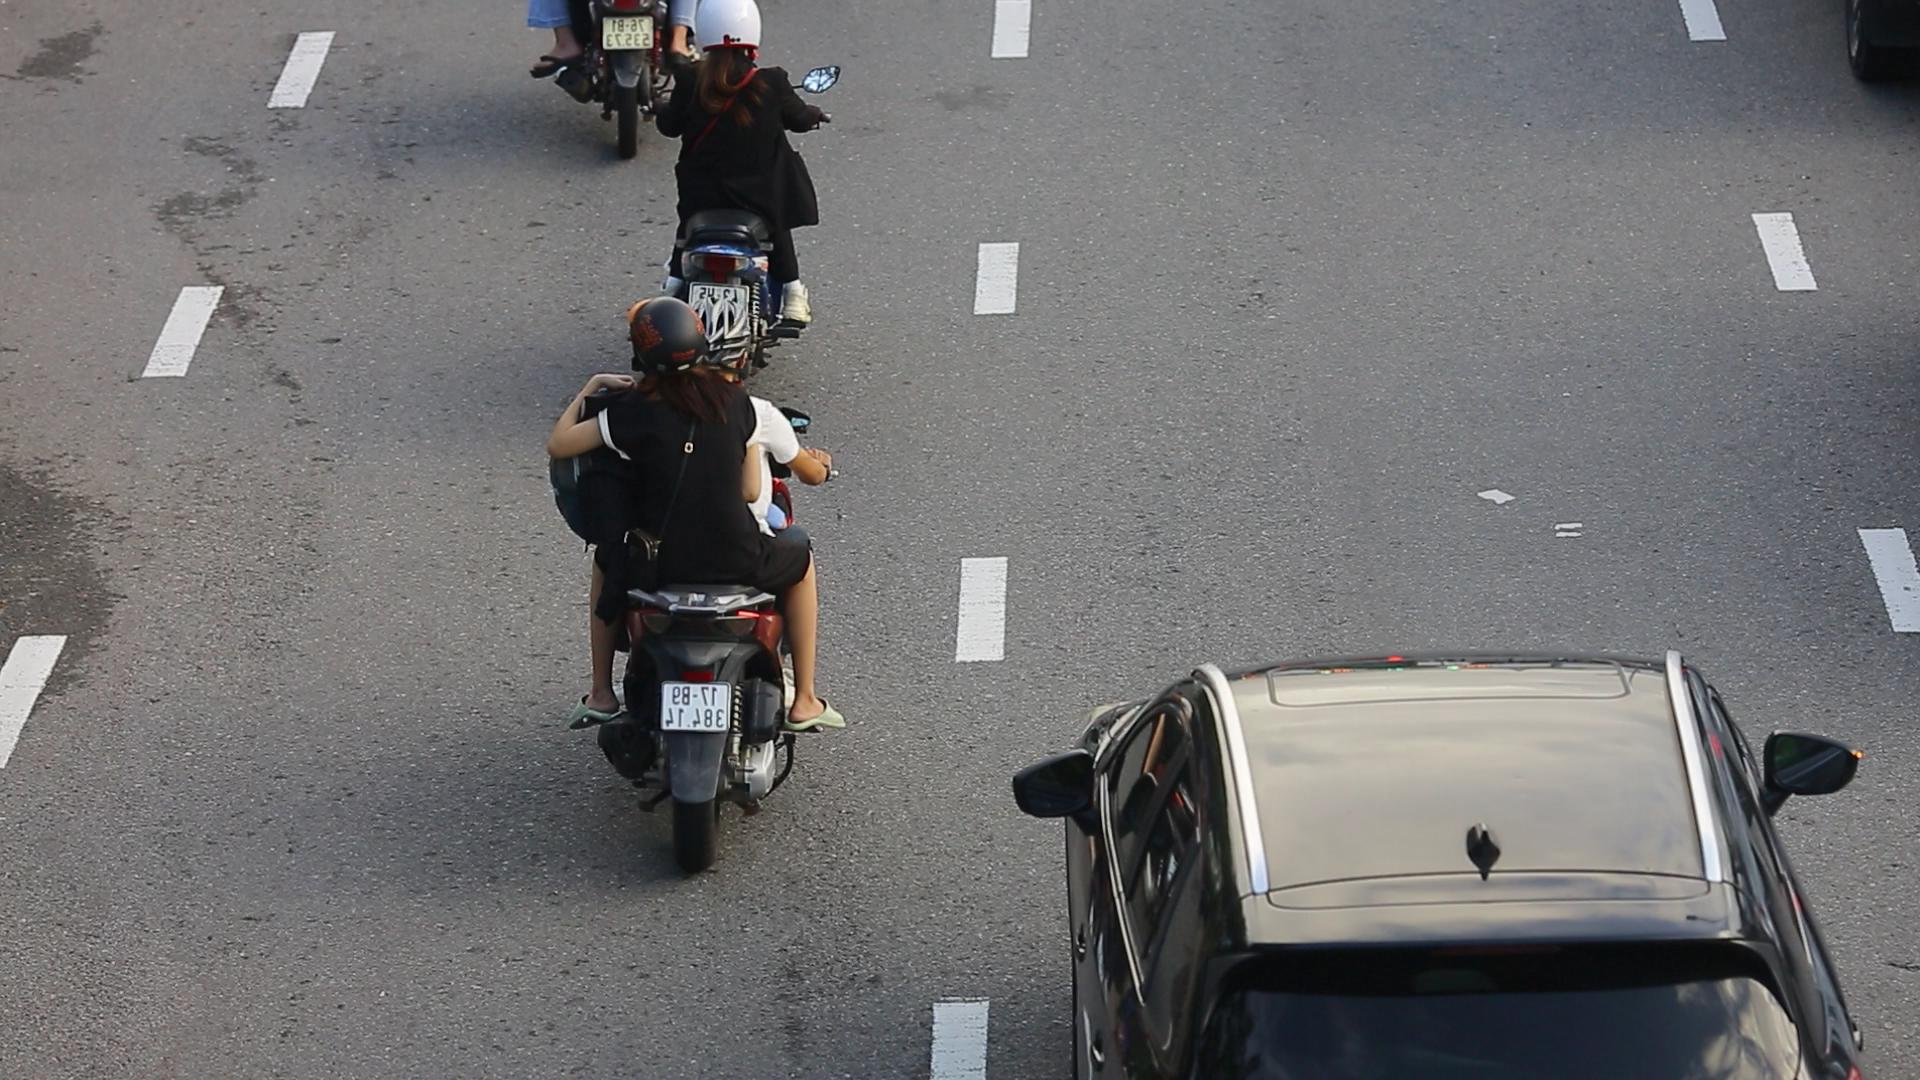motobike: (531, 293, 861, 889)
